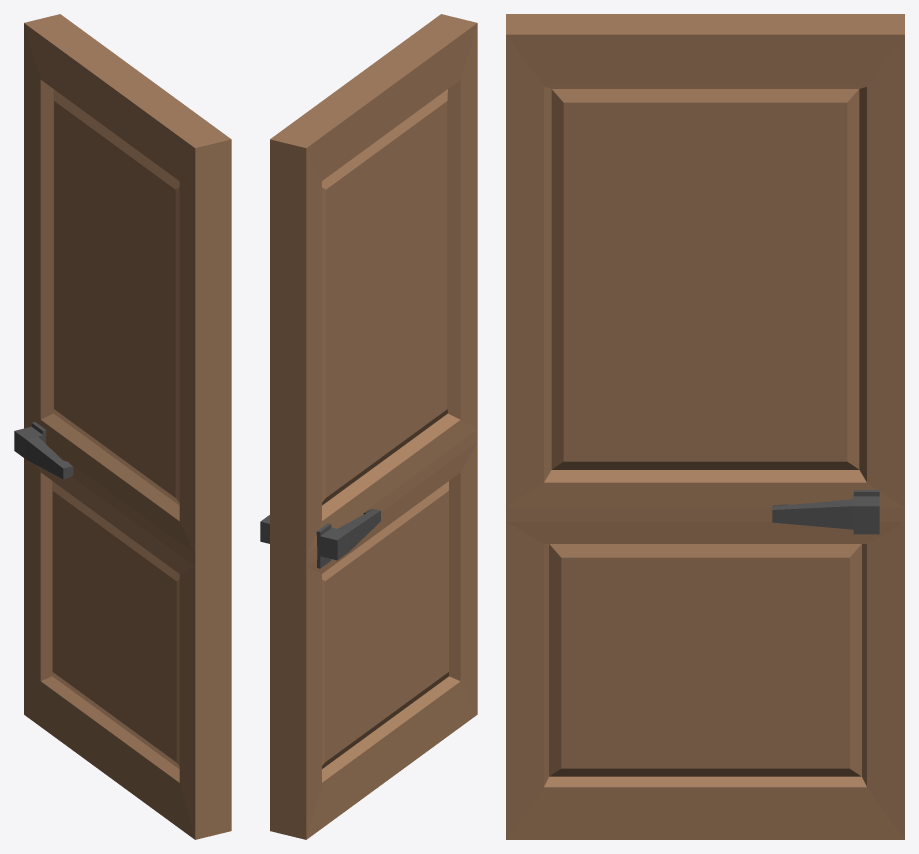
File: door.glb
3 views of the same model, side by side, from view 1: azimuth 30°, elevation 25°; view 2: azimuth 150°, elevation 25°; view 3: azimuth 270°, elevation 25° (orthographic). The views are drawn at different scales.
Parts seen in each view (by area): view 1: Door, Handle.001; view 2: Door, Handle.001; view 3: Door, Handle.001.
Boxes of the visible parts, x1=… form: Door: x1=24, y1=14, x2=231, y2=839; Handle.001: x1=14, y1=426, x2=73, y2=479; Door: x1=270, y1=14, x2=477, y2=839; Handle.001: x1=260, y1=509, x2=380, y2=560; Door: x1=506, y1=14, x2=904, y2=839; Handle.001: x1=772, y1=496, x2=879, y2=529.
Size of the model in its own units: 0.0957 by 0.8196 by 0.3679.
1 material, 1 textured.
